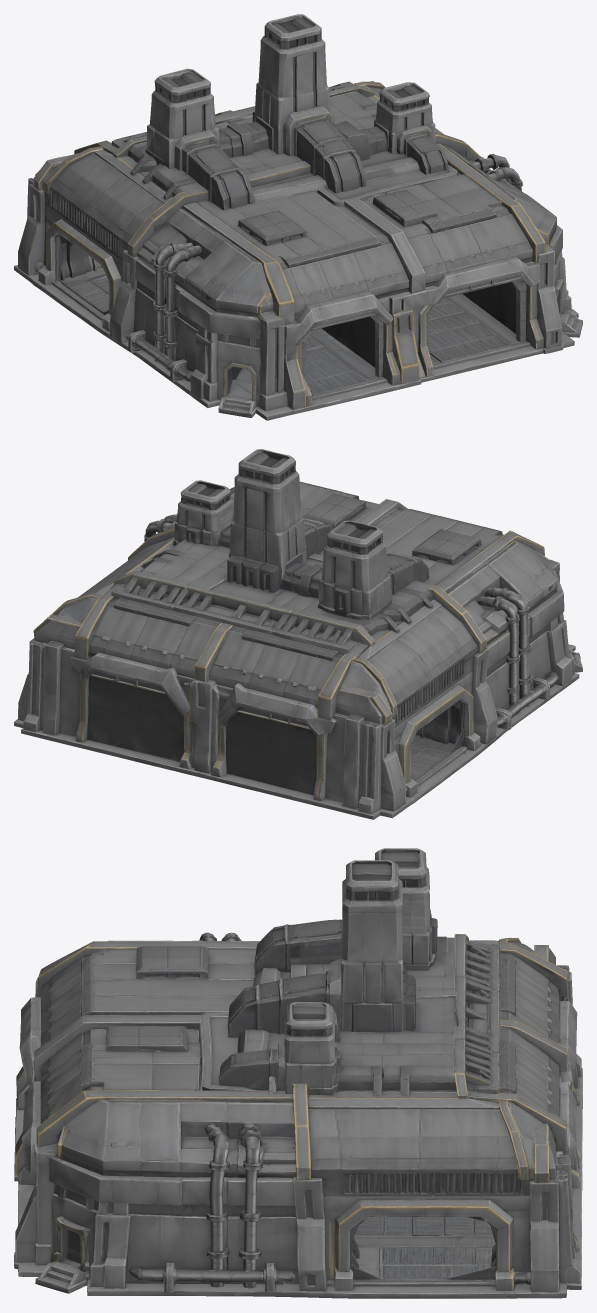
File: imperial_alloy_foundry.glb
3 renders of one model, top to bottom at view 1: azimuth 30°, elevation 25°; view 2: azimuth 150°, elevation 25°; view 3: azimuth 270°, elevation 25°, orthographic. The views are drawn at different scales.
Visible parts, largest first — view 1: mesh_node; view 2: mesh_node; view 3: mesh_node.
Part boxes in pixels (x1=…): mesh_node: x1=14, y1=14, x2=582, y2=420; mesh_node: x1=14, y1=449, x2=582, y2=819; mesh_node: x1=14, y1=848, x2=582, y2=1298.
Bounding box in the file's own units: 32.6 × 20.87 × 33.52.
1 material, 1 textured.
